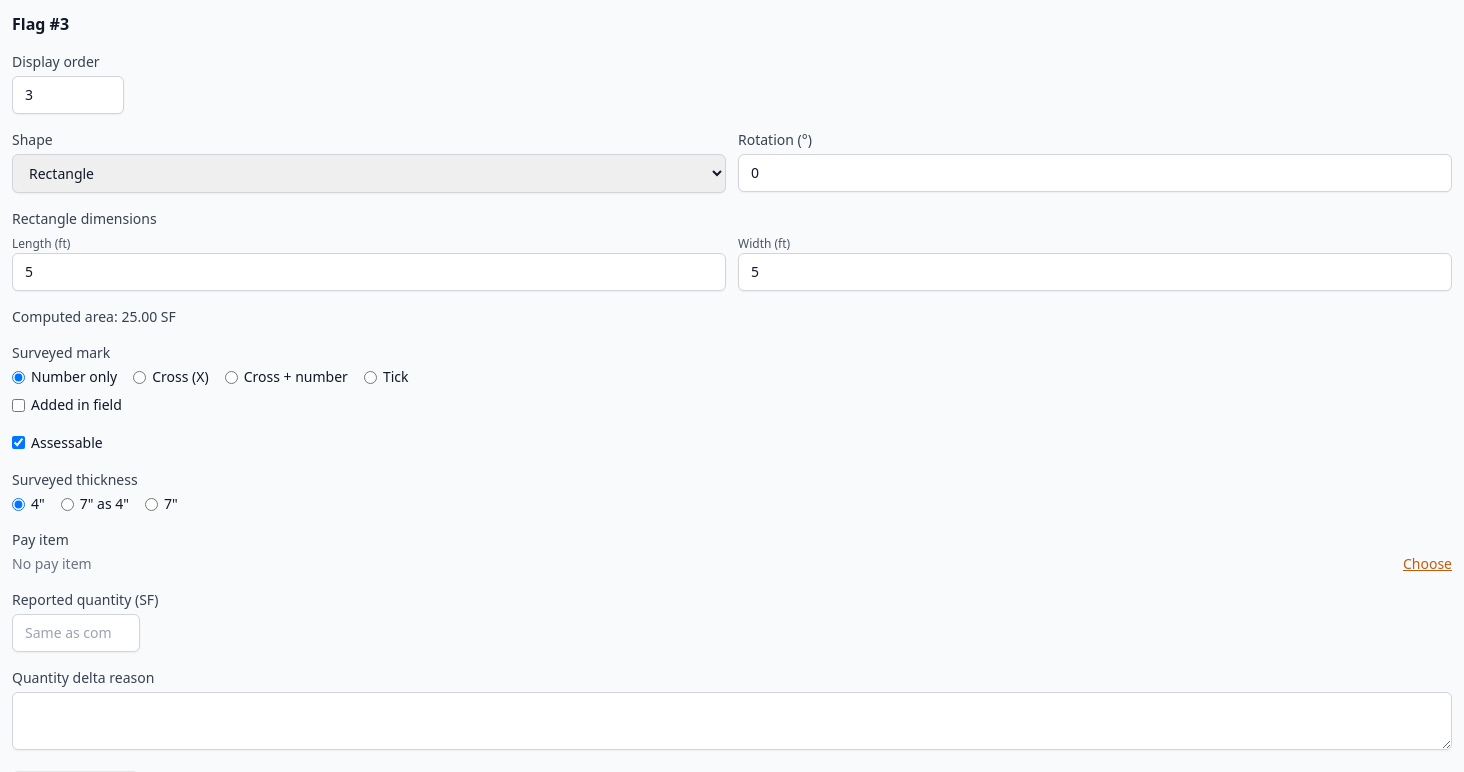
Test: FlagPanel — editing › doesn't send dimensions out of range, and says so
Step 1. Clear the number field labelled "Width (ft)" → (1095, 272), box top-left (738, 253), bottom-right (1452, 291)
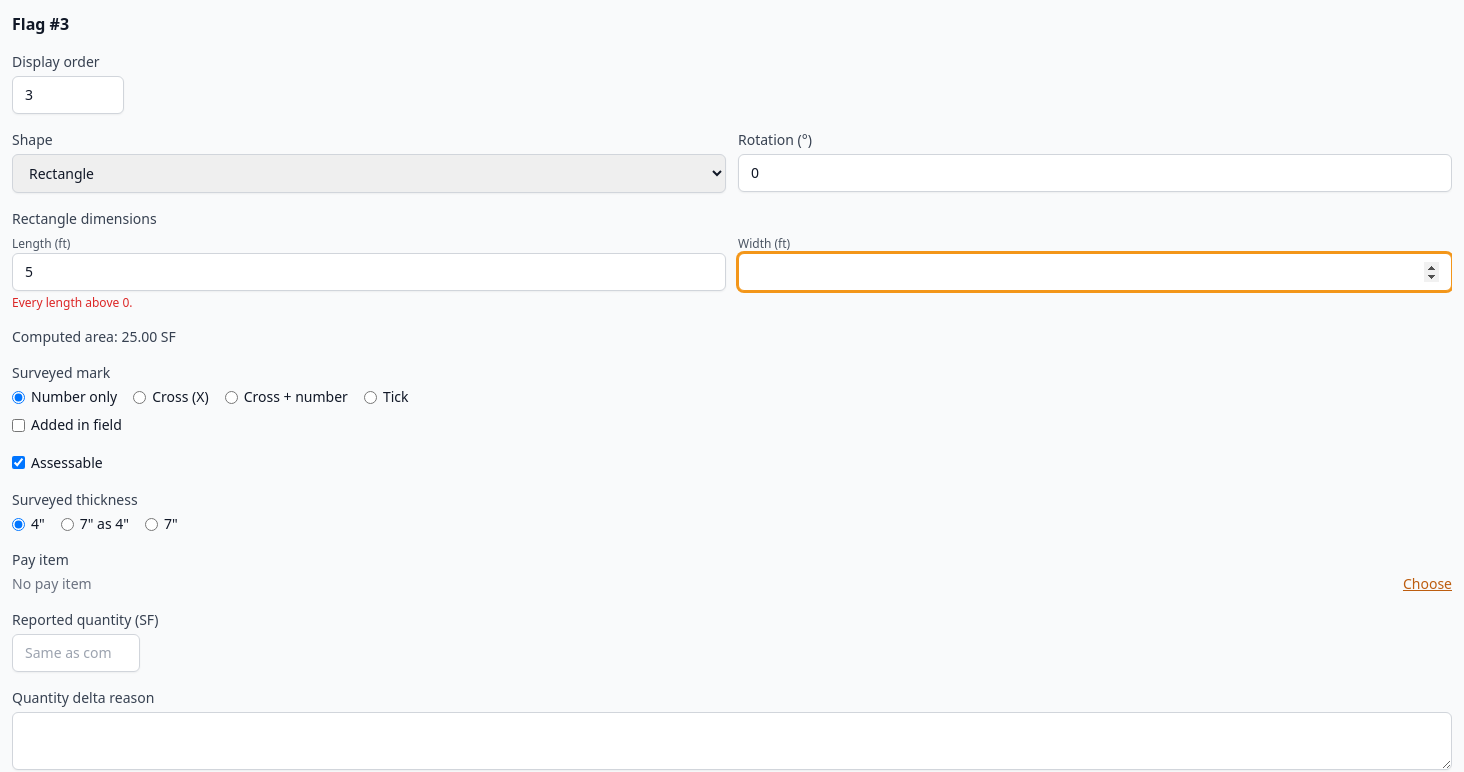
Expected: the text "Every length above 0." is shown, top-left (12, 294), bottom-right (132, 311)
